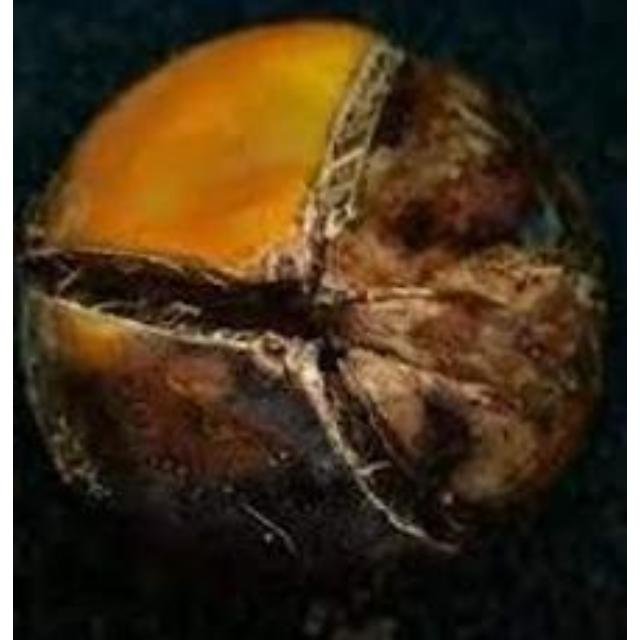damaged: (27, 14, 614, 562)
